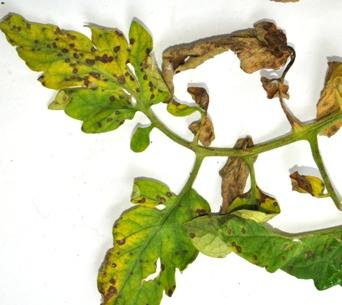Tomato Septoria leaf spot: (0, 10, 167, 132), (93, 172, 219, 305), (181, 195, 342, 295)
